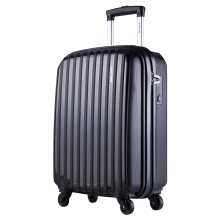luggage: (53, 6, 168, 213)
